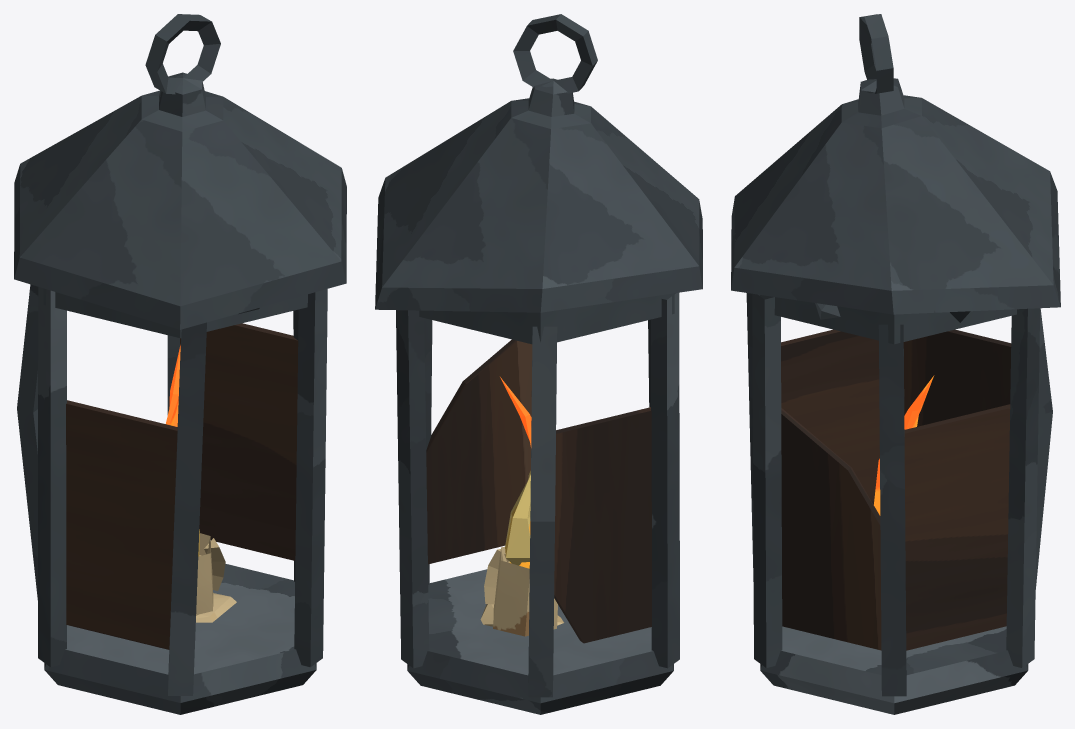
File: SM_HangingLantern.fbx
3 renders of one model, left to right at view 1: azimuth 30°, elevation 25°; view 2: azimuth 150°, elevation 25°; view 3: azimuth 270°, elevation 25°, orthographic. The views are drawn at different scales.
Visible parts, largest first — view 1: SM_HangingLantern, SM_HangingLantern_Flame; view 2: SM_HangingLantern, SM_HangingLantern_Flame; view 3: SM_HangingLantern, SM_HangingLantern_Flame.
Part boxes in pixels (left/top/right/bottom): SM_HangingLantern: left=14, top=14, right=346, bottom=714; SM_HangingLantern_Flame: left=166, top=345, right=199, bottom=556; SM_HangingLantern: left=375, top=14, right=702, bottom=714; SM_HangingLantern_Flame: left=500, top=377, right=531, bottom=568; SM_HangingLantern: left=731, top=14, right=1060, bottom=714; SM_HangingLantern_Flame: left=874, top=375, right=934, bottom=515.
Size of the model in its own units: 0.2439 by 0.4885 by 0.2131.
